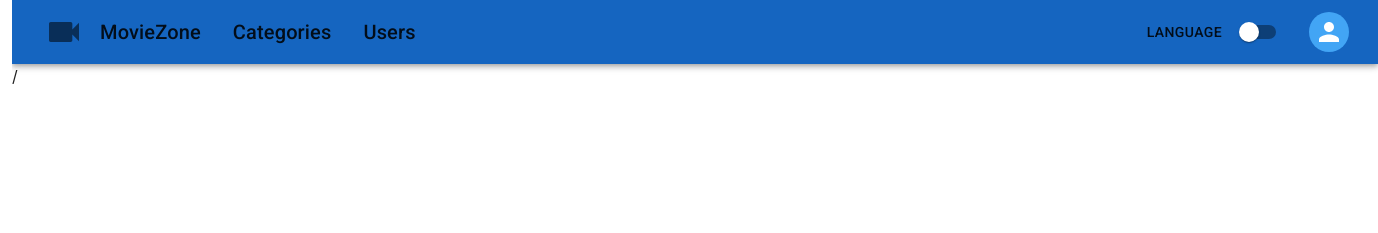
Test: User menu works
Click the button with test id "navbar-account-bubble" at (1329, 32), box [1304,7,1354,57]
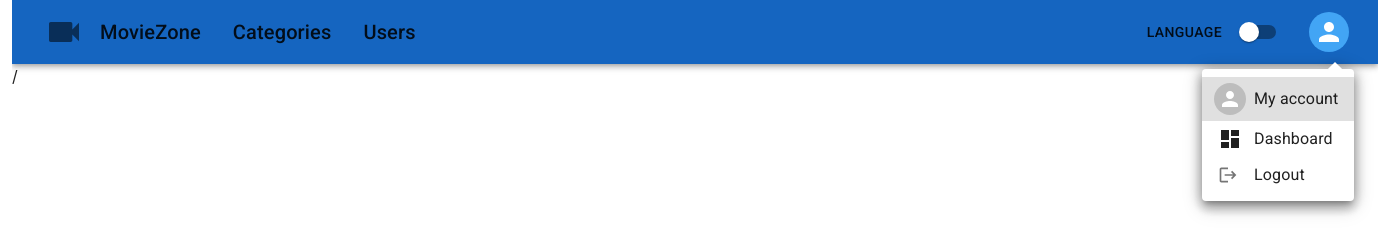
Check: the menu item with test id "navbar-account-menuitem" reads "My account", box [1202,77,1354,121]
Check: the menu item with test id "navbar-logout-menuitem" reads "Logout", box [1218,165,1305,185]
